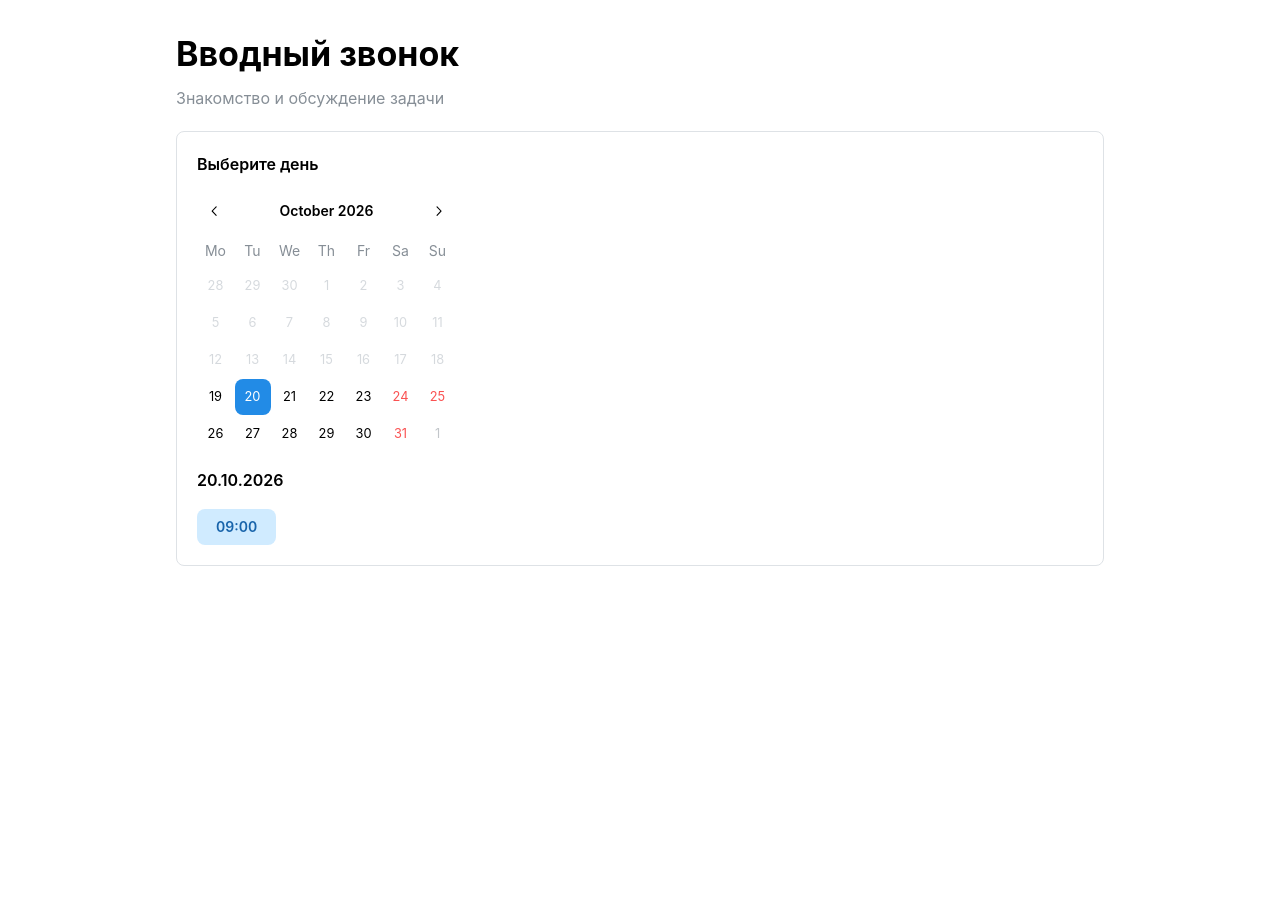
BookingPage (запись на слот) › серверные ошибки 400 подсвечивает по полям формы
This screenshot has width=1280, height=900.
Expected: the heading "Вводный звонок" is shown, [176, 33, 459, 74]
Click the button "09:00": (237, 527) [197, 509, 276, 545]
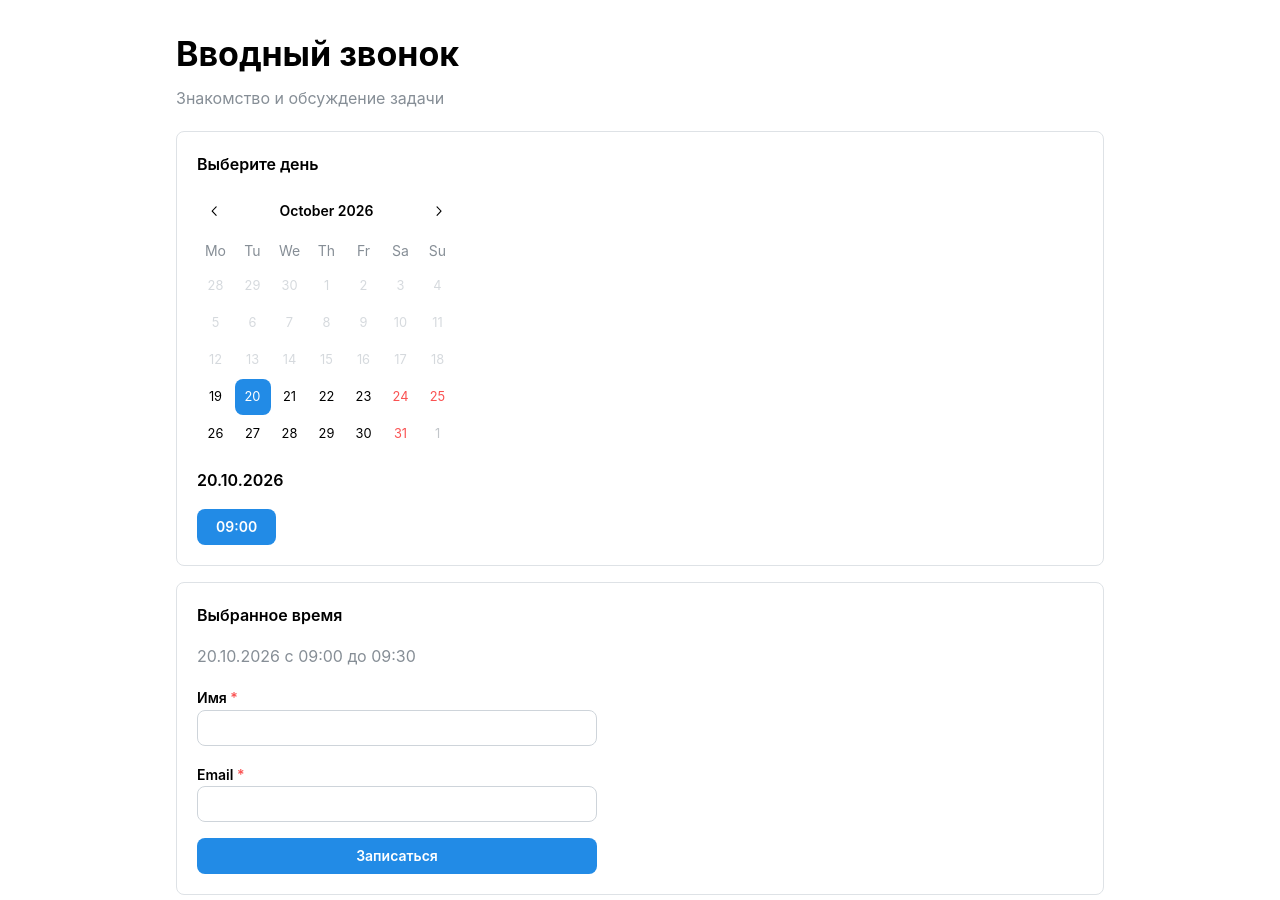
In the field labelled "Имя *": (397, 728) [197, 710, 597, 746], type "Иван"
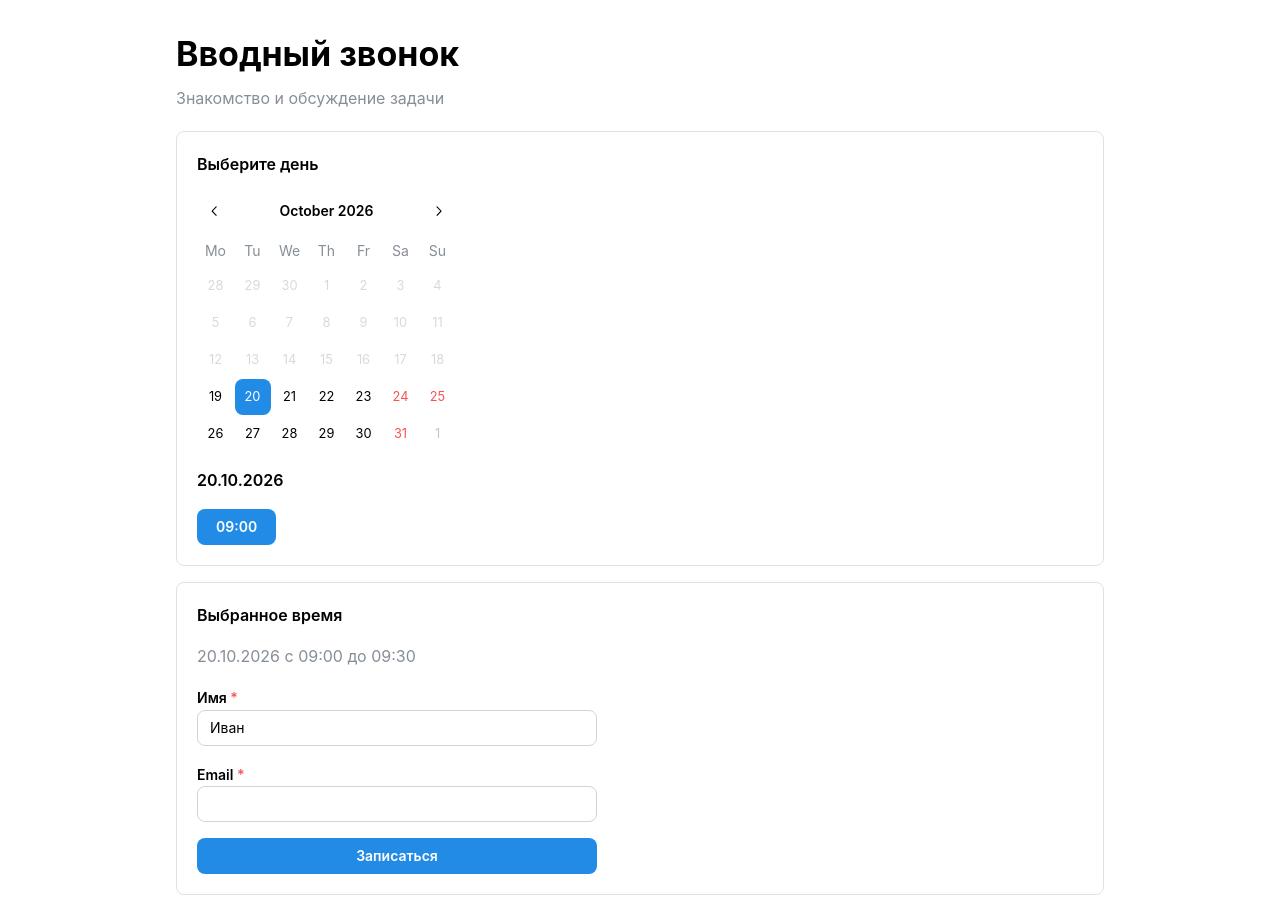
In the field labelled "Email *": (397, 804) [197, 786, 597, 822], type "ivan@example.com"
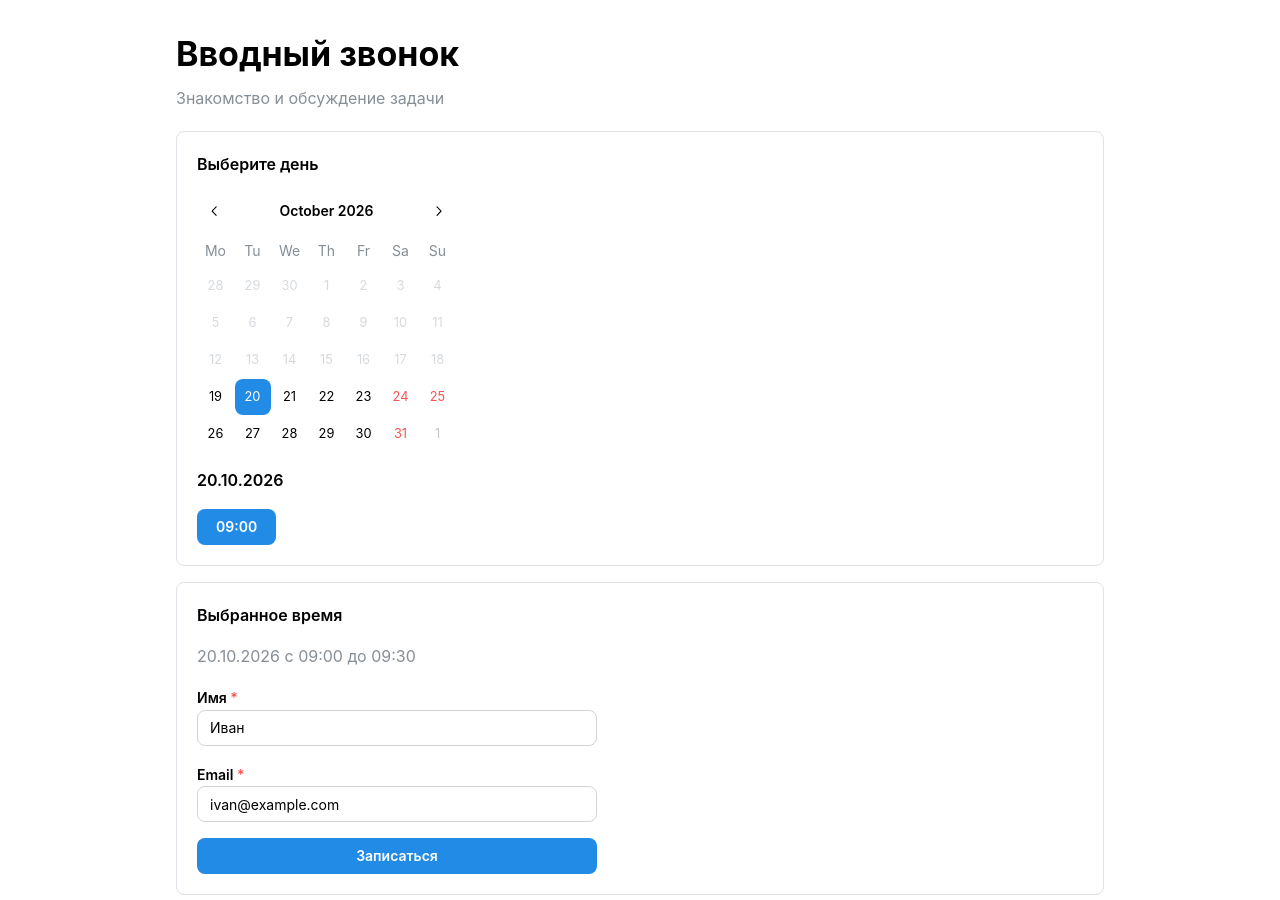
Click the button "Записаться": (397, 856) [197, 838, 597, 874]
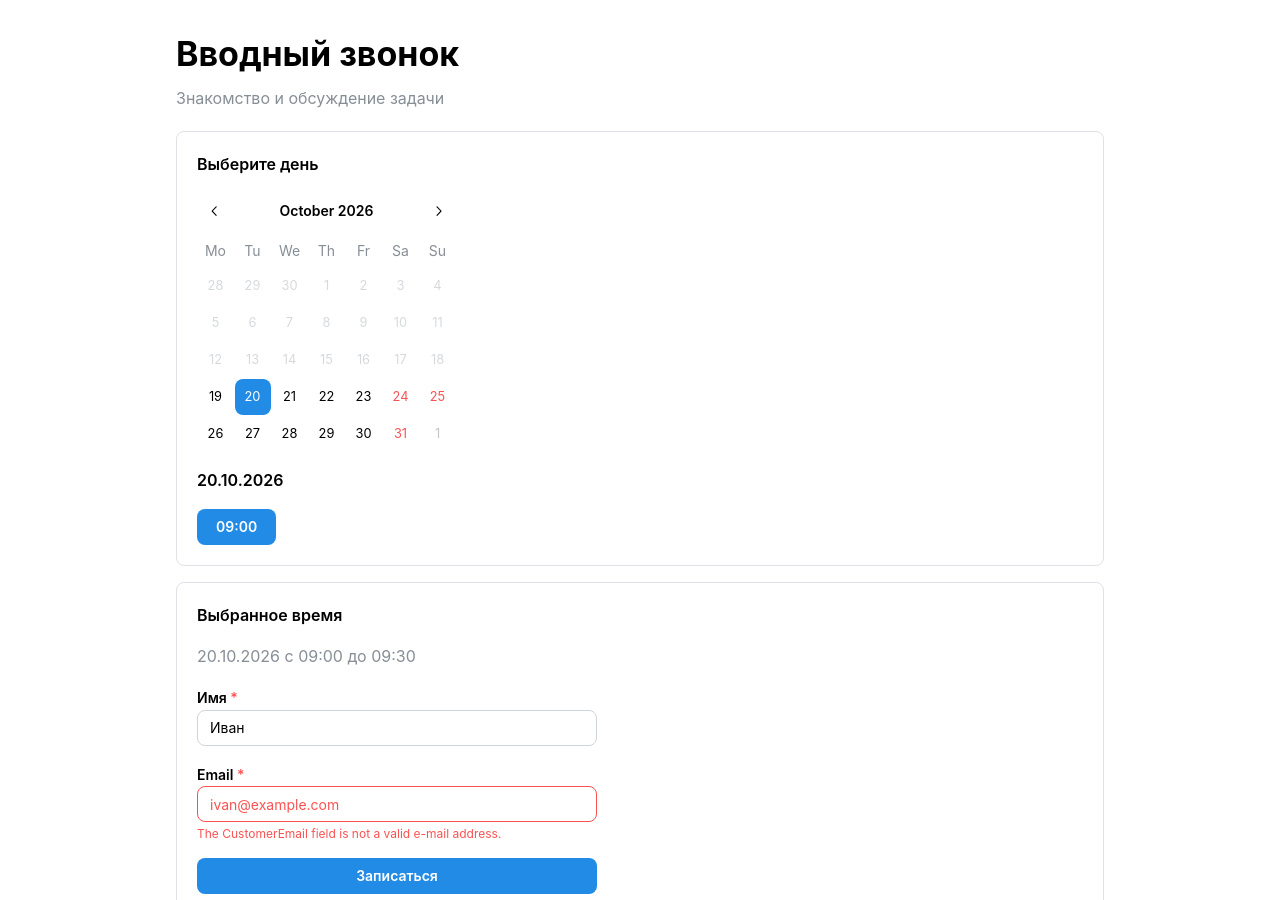
Expected: the text "The CustomerEmail field is not a valid e-mail address." is shown, [197, 826, 501, 842]
